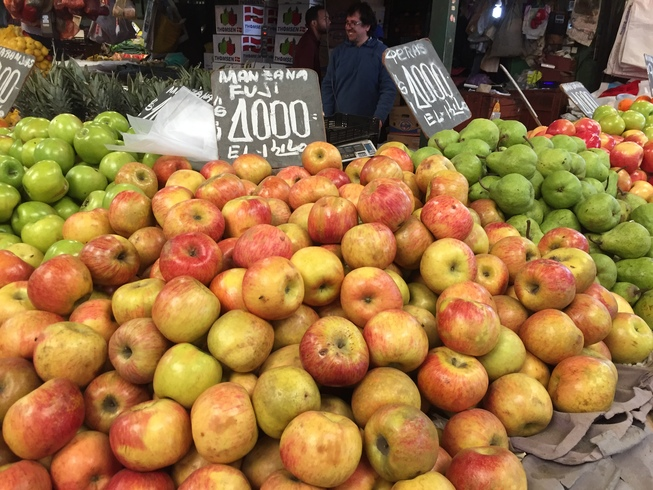precio: (215, 65, 331, 168), (381, 42, 475, 131), (560, 78, 605, 123)
